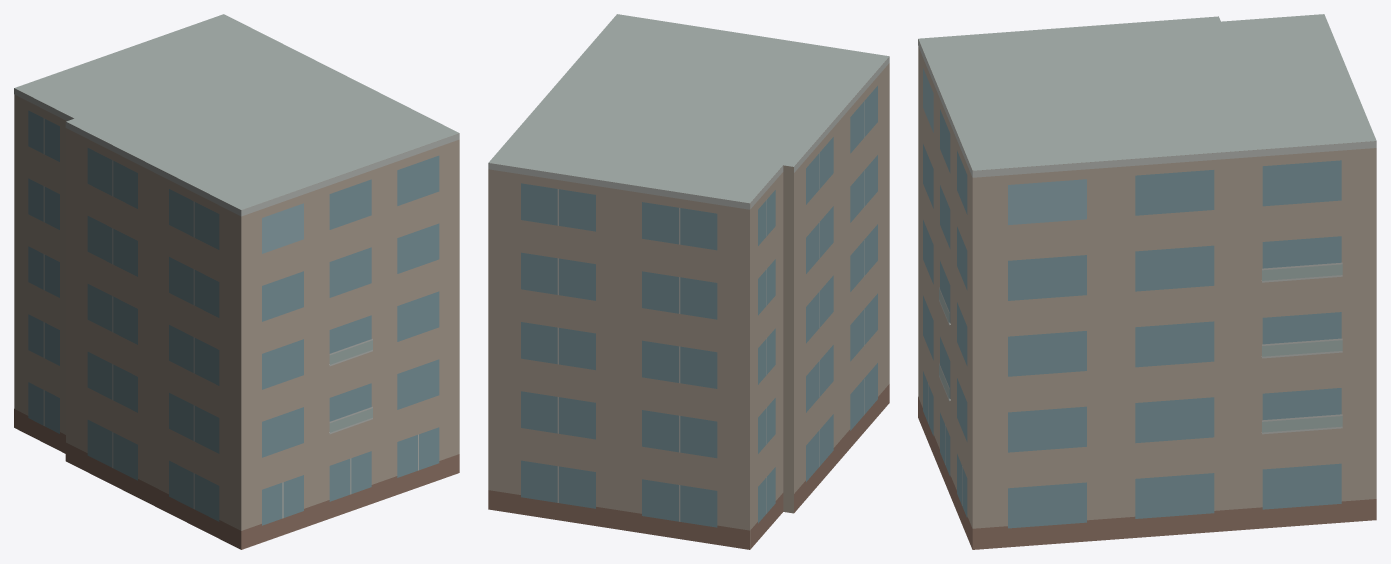
Rendered from survey-upis-32657662.glb.
3 views of the same model, side by side, from view 1: azimuth 30°, elevation 25°; view 2: azimuth 150°, elevation 25°; view 3: azimuth 270°, elevation 25° (orthographic). The views are drawn at different scales.
Parts seen in each view (by area): view 1: survey-upis-32657662.tmp; view 2: survey-upis-32657662.tmp; view 3: survey-upis-32657662.tmp.
Boxes of the visible parts, x1,y1,x2,y2 form: survey-upis-32657662.tmp: [14, 14, 459, 549]; survey-upis-32657662.tmp: [488, 14, 889, 549]; survey-upis-32657662.tmp: [918, 14, 1376, 549].
Bounding box in the file's own units: 11.72 × 13.2 × 14.48.
